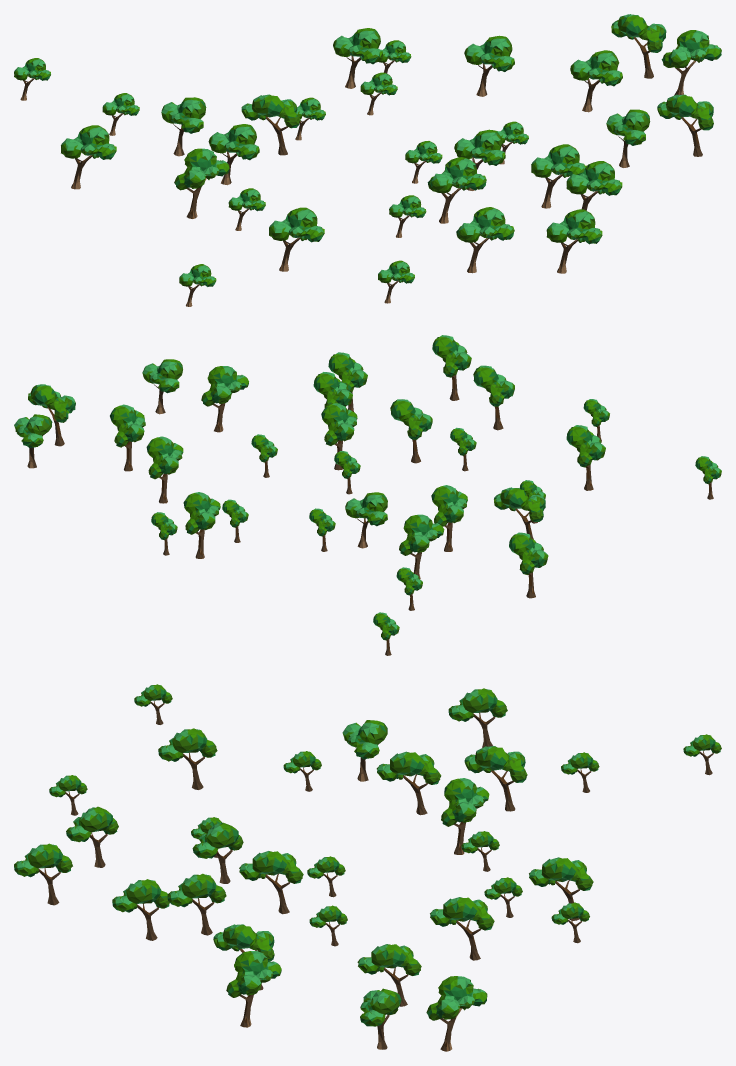
The model's file is tree3_highDensity.dae.
The picture shows the model from 3 angles, top to bottom: view 1: azimuth 30°, elevation 25°; view 2: azimuth 150°, elevation 25°; view 3: azimuth 270°, elevation 25°; orthographic projection. The views are drawn at different scales.
Visible parts, largest first — view 1: _3_tree.001; view 2: _3_tree.001; view 3: _3_tree.001.
Part boxes in pixels (x1,y1,x2,y2): _3_tree.001: [14, 14, 721, 306]; _3_tree.001: [14, 335, 721, 655]; _3_tree.001: [14, 684, 721, 1051].
Bounding box in the file's own units: 91.63 × 81.56 × 9.55.
1 material, 1 textured.
